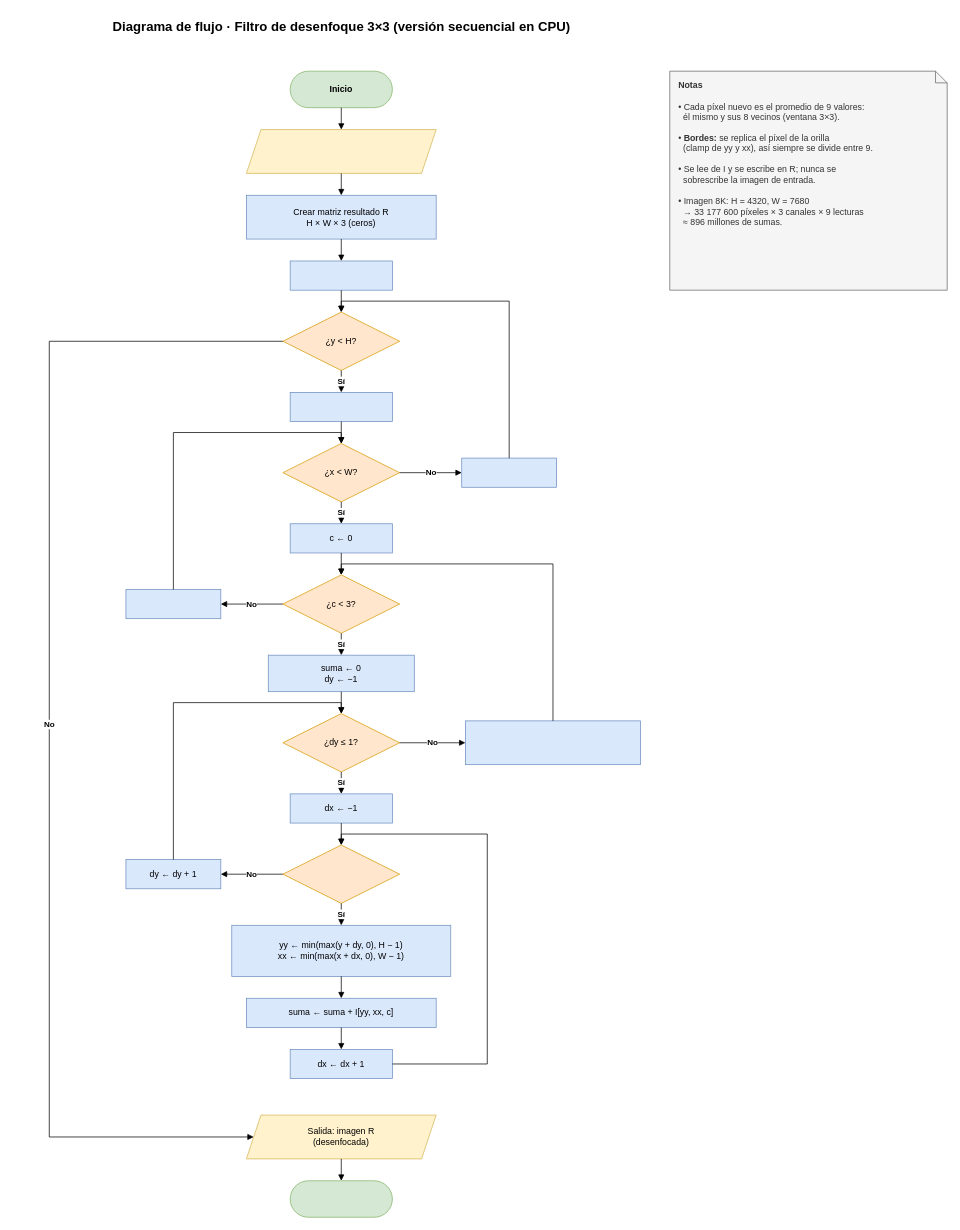
The diagram is 960 pixels wide and 1230 high, and some of its shapes have lost their labels. The centre of each missing label's shape, as x and y in pixels:
Entrada: imagen I H × W × 3 (uint8): the point at 341,151
Fin: the point at 340,1198
R[y, x, c] ← redondear(suma / 9) c ← c + 1: the point at 553,742
x ← 0: the point at 340,407
x ← x + 1: the point at 173,604
y ← 0: the point at 340,275
y ← y + 1: the point at 509,472
¿dx ≤ 1?: the point at 341,873
